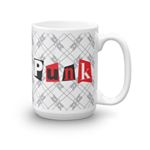cups: (27, 17, 134, 126)
